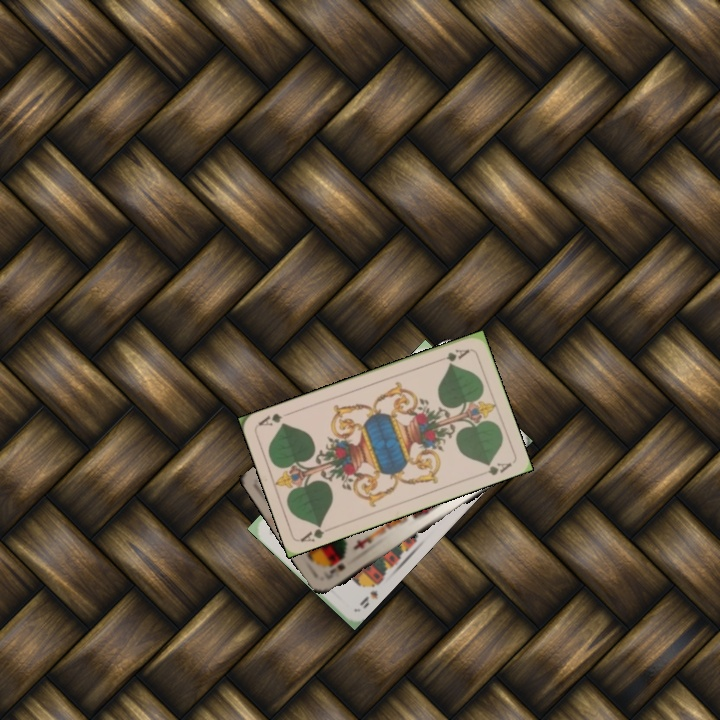GA: (433, 345, 472, 366), (297, 520, 326, 545)
S9: (356, 577, 383, 611)
SK: (320, 559, 348, 579)
